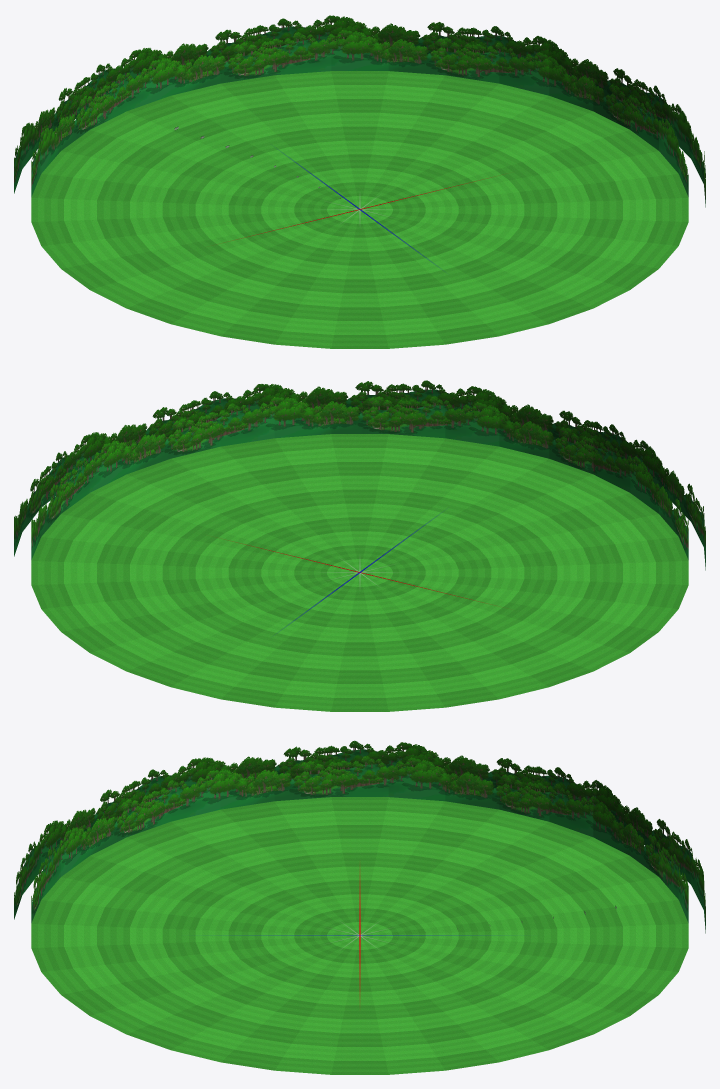
File: glf_course_survey__glf_course_survey.glb
The picture shows the model from 3 angles, top to bottom: view 1: azimuth 30°, elevation 25°; view 2: azimuth 150°, elevation 25°; view 3: azimuth 270°, elevation 25°; orthographic projection.
Parts seen in each view (by area): view 1: polygon3, polygon2, polygon0; view 2: polygon3, polygon2, polygon0; view 3: polygon3, polygon2, polygon0.
Boxes of the visible parts, x1=… form: polygon3: x1=31, y1=71, x2=688, y2=348; polygon2: x1=14, y1=15, x2=705, y2=207; polygon0: x1=236, y1=153, x2=487, y2=265; polygon3: x1=31, y1=434, x2=688, y2=711; polygon2: x1=14, y1=380, x2=705, y2=570; polygon0: x1=232, y1=516, x2=483, y2=628; polygon3: x1=31, y1=797, x2=688, y2=1074; polygon2: x1=14, y1=740, x2=705, y2=933; polygon0: x1=258, y1=875, x2=461, y2=995.
Bounding box in the file's own units: 9588 × 760 × 9588.
4 materials, 4 textured.
